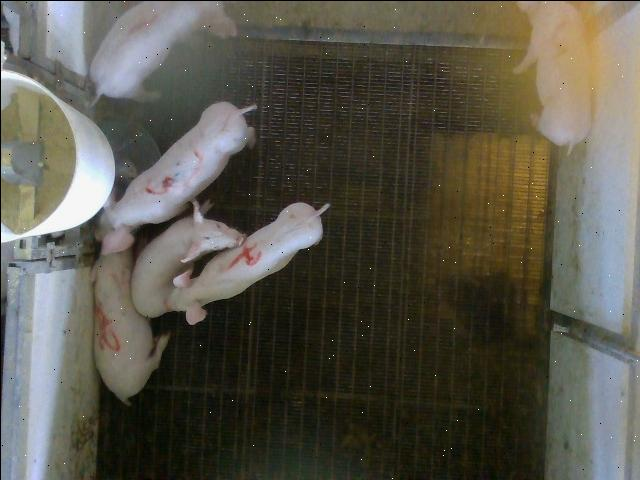pig-1: (89, 1, 201, 96)
pig-2: (512, 2, 591, 149)
pig-3: (95, 101, 255, 254)
pig-4: (166, 202, 329, 324)
pig-5: (91, 248, 169, 404)
